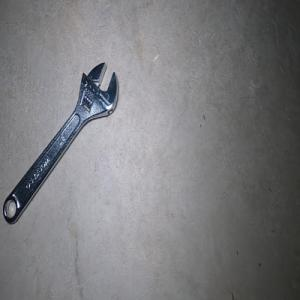Wrench: (2, 62, 118, 224)
